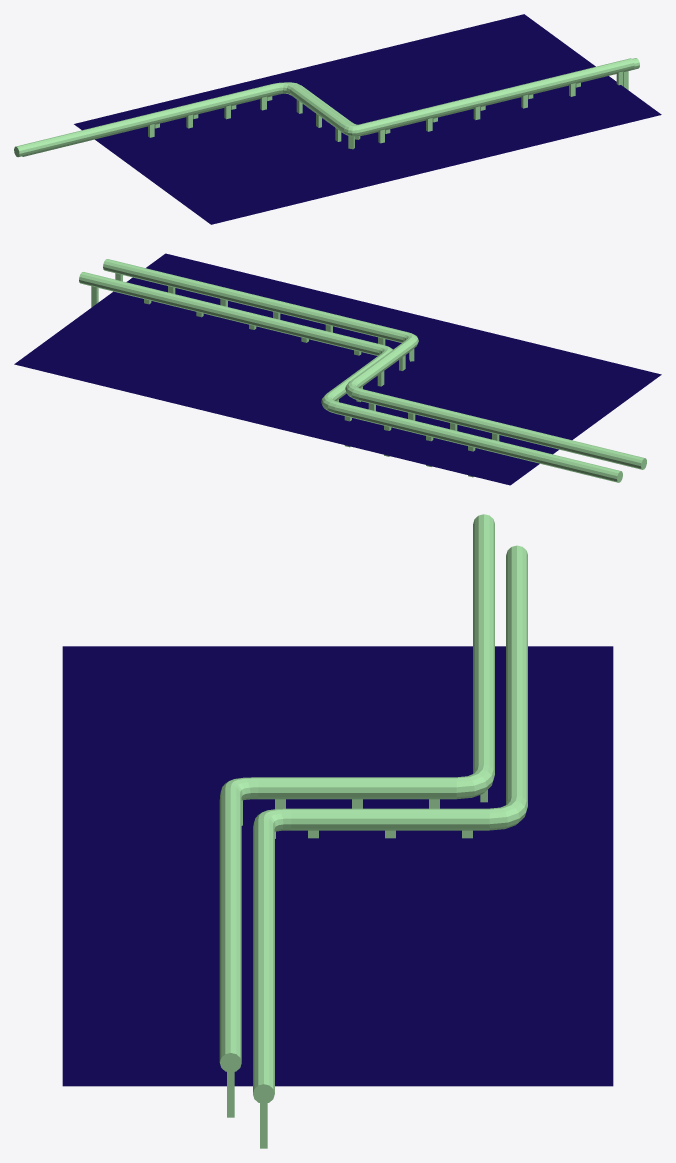
The model's file is floor2.glb.
3 views of the same model, one above another, from view 1: azimuth 30°, elevation 25°; view 2: azimuth 150°, elevation 25°; view 3: azimuth 270°, elevation 25° (orthographic). The views are drawn at different scales.
Visible parts, largest first — view 1: floor2; view 2: floor2; view 3: floor2.
Boxes of the visible parts, <box> form: floor2: <box>14,14,661,224</box>; floor2: <box>14,253,661,485</box>; floor2: <box>62,514,613,1148</box>.
Size of the model in its own units: 154 by 11.99 by 65.
